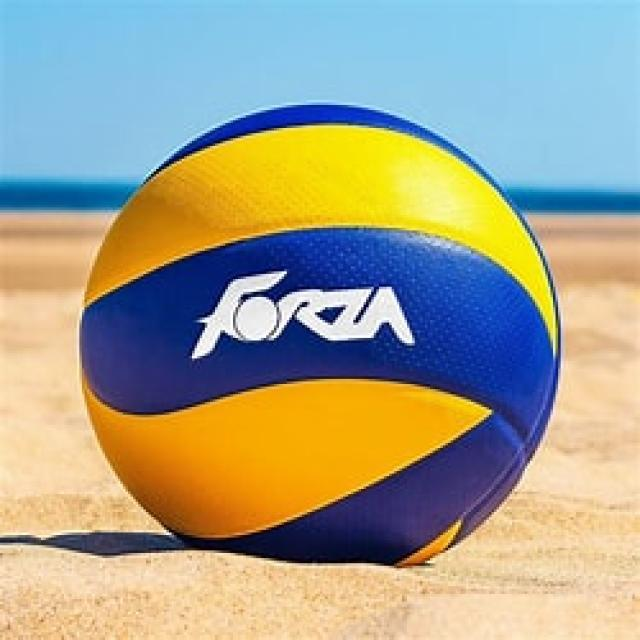volleyball: (80, 105, 560, 567)
